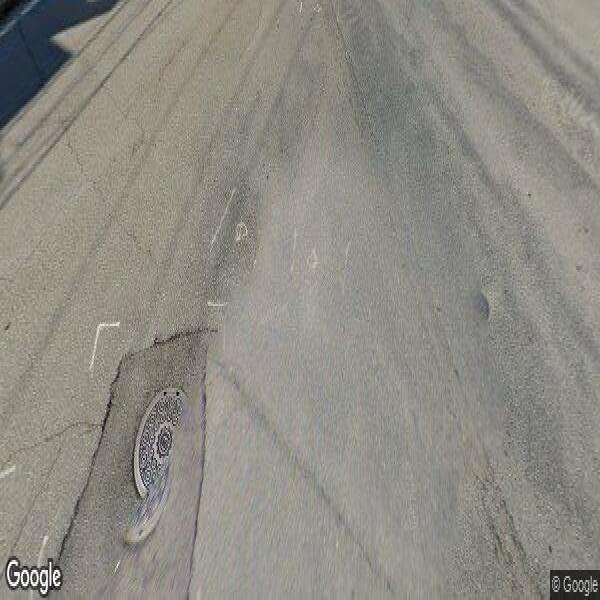manhole: (125, 391, 196, 510)
